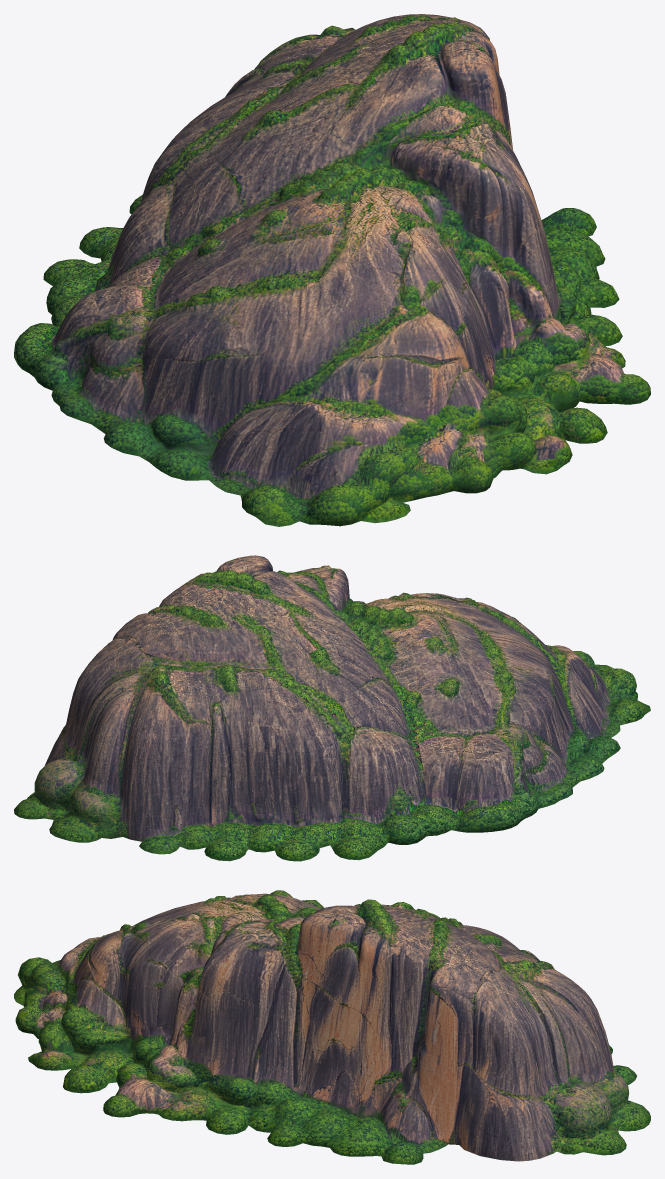
File: rock.fbx
The picture shows the model from 3 angles, top to bottom: view 1: azimuth 30°, elevation 25°; view 2: azimuth 150°, elevation 25°; view 3: azimuth 270°, elevation 25°; orthographic projection. The views are drawn at different scales.
Parts seen in each view (by area): view 1: tripo_node_14240194; view 2: tripo_node_14240194; view 3: tripo_node_14240194.
Part boxes in pixels (x1,y1,x2,y2): tripo_node_14240194: (14,14,650,526); tripo_node_14240194: (14,555,650,861); tripo_node_14240194: (14,890,650,1164).
Bounding box in the file's own units: 0.8267 × 0.3374 × 0.9995.
